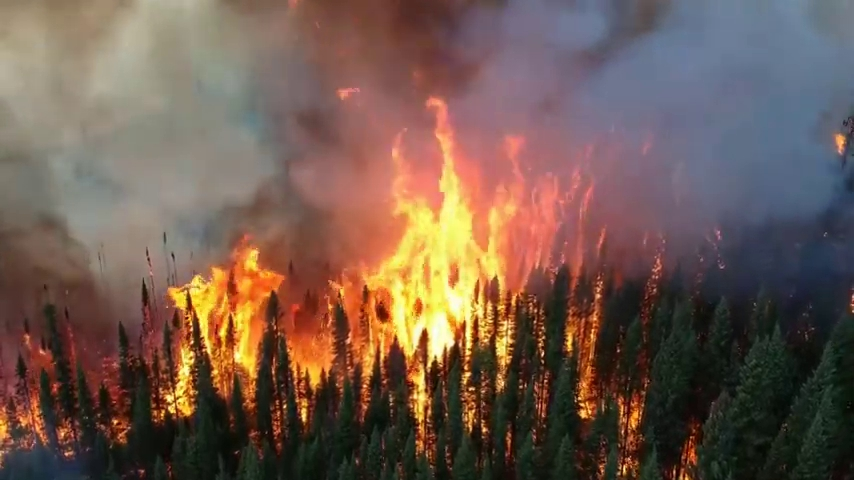forest_fire: (325, 98, 556, 422), (167, 244, 285, 412), (563, 274, 603, 417), (616, 317, 648, 473), (0, 372, 45, 453), (287, 340, 332, 379), (675, 422, 701, 479), (579, 227, 582, 228)
